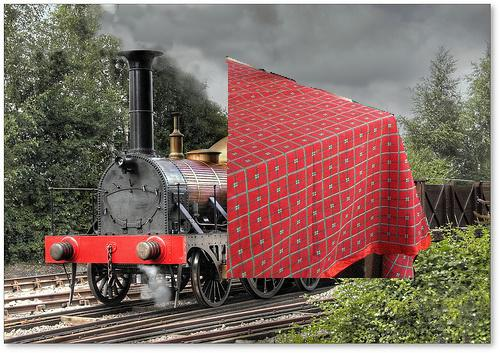tampered: (227, 56, 431, 278)
